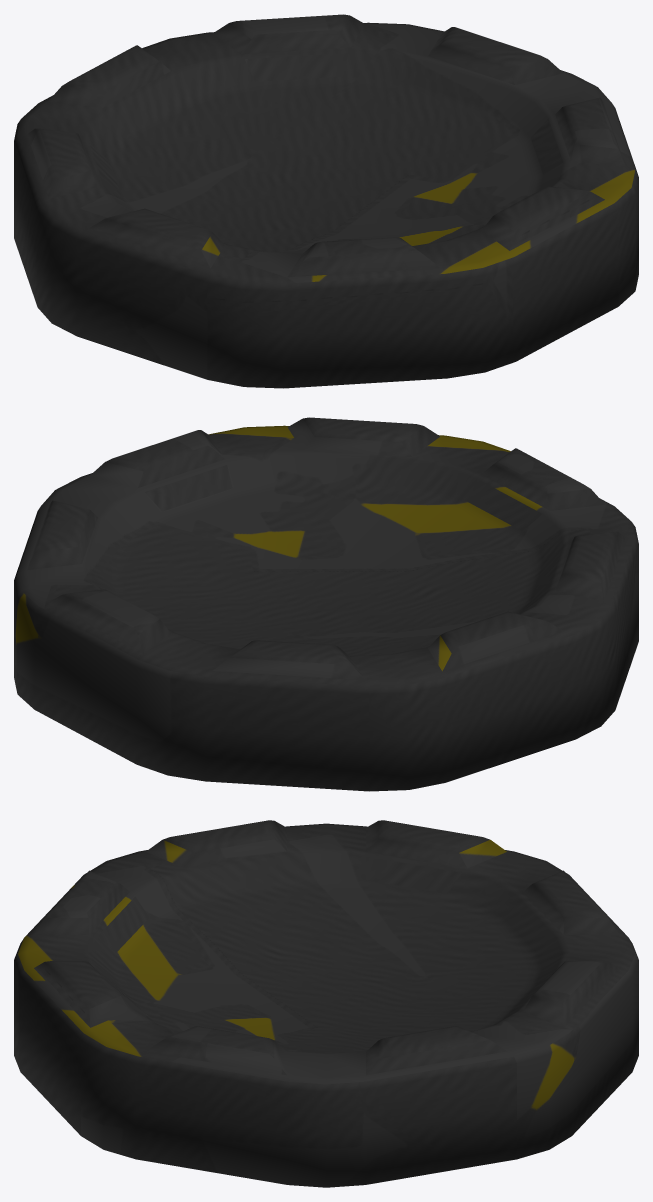
The model's file is Laser_end.gltf.
The picture shows the model from 3 angles, top to bottom: view 1: azimuth 30°, elevation 25°; view 2: azimuth 150°, elevation 25°; view 3: azimuth 270°, elevation 25°; orthographic projection.
Parts seen in each view (by area): view 1: Cube; view 2: Cube; view 3: Cube.
Boxes of the visible parts, x1,y1,x2,y2 form: Cube: (14,14,638,388); Cube: (14,417,638,791); Cube: (14,820,638,1187).
Size of the model in its own units: 1.09 by 0.2303 by 1.09.
Materials: 1 (1 with a texture image).
